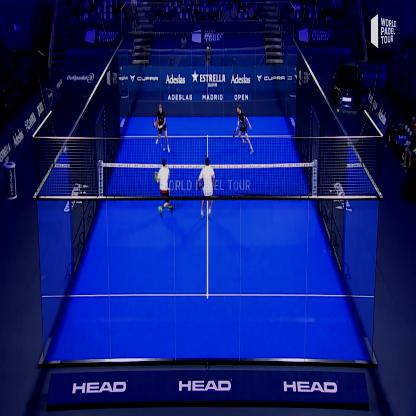ball: (161, 144, 167, 156)
